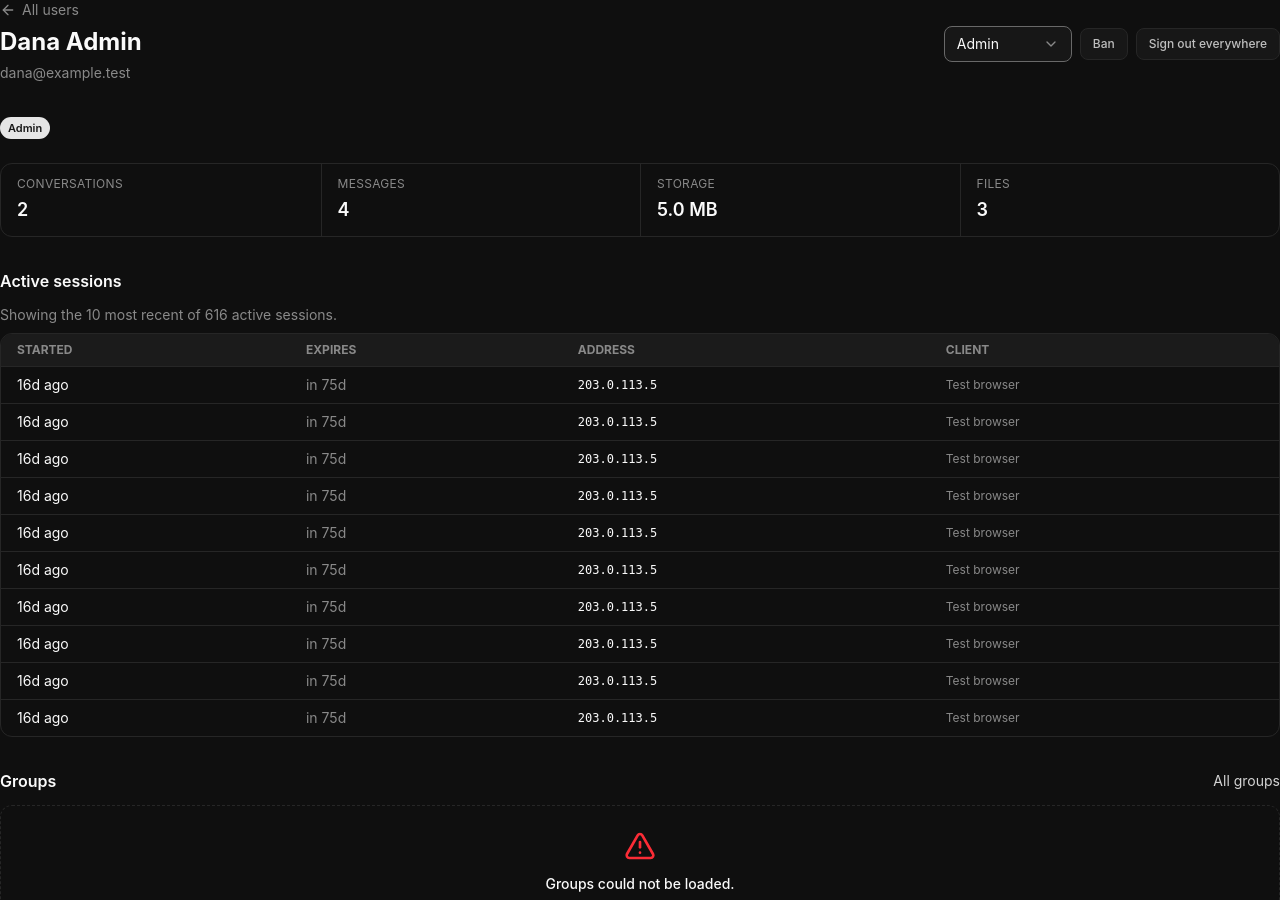
Test: user detail actions › states the true total when only the newest sessions are listed (#134)
Expected: the text "Showing the 10 most recent of 616 active sessions." is shown, [0, 306, 337, 323]
Click the button "Sign out everywhere": (1208, 44) [1136, 28, 1279, 60]
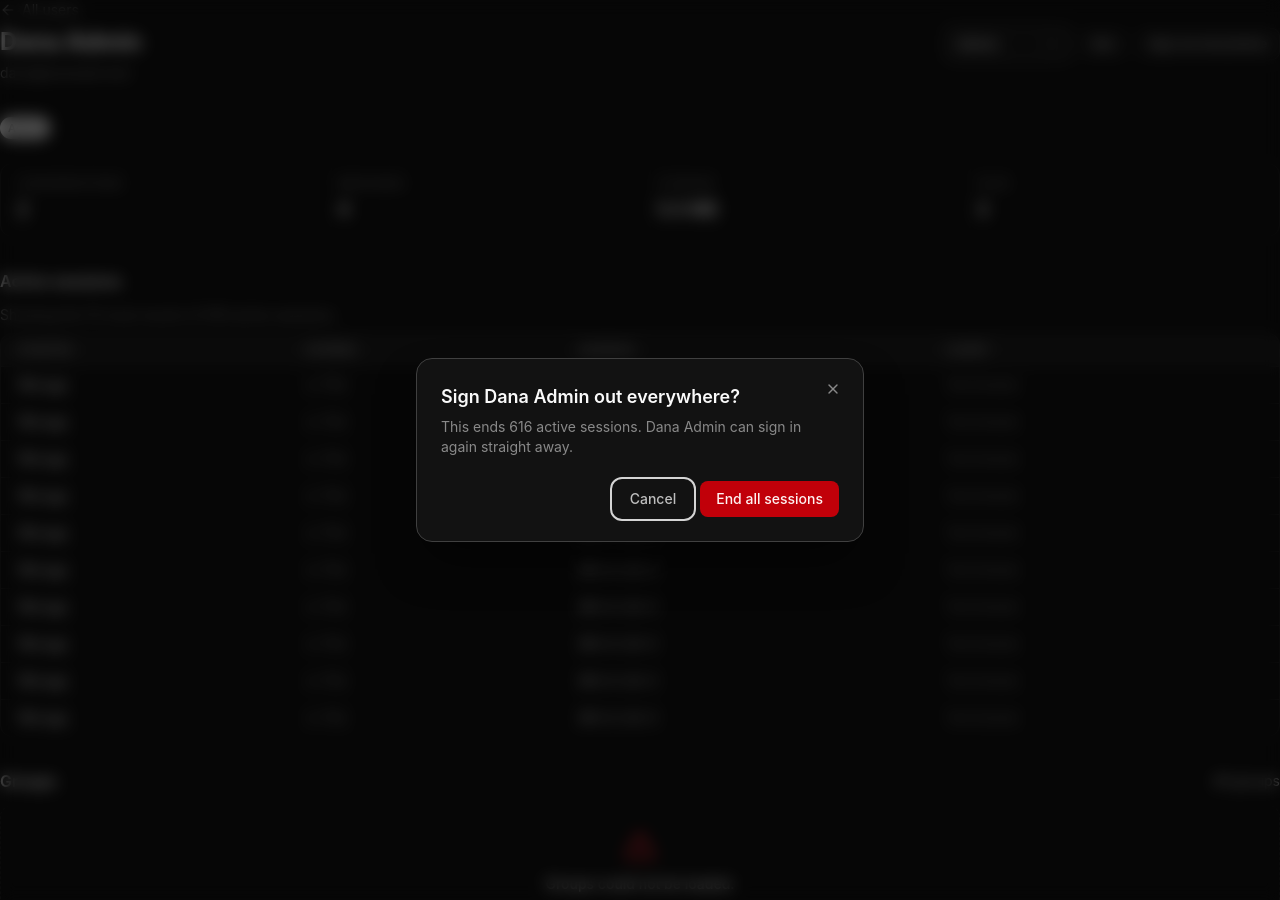
Expected: the dialog shows "This ends 616 active sessions.", [441, 418, 801, 455]
